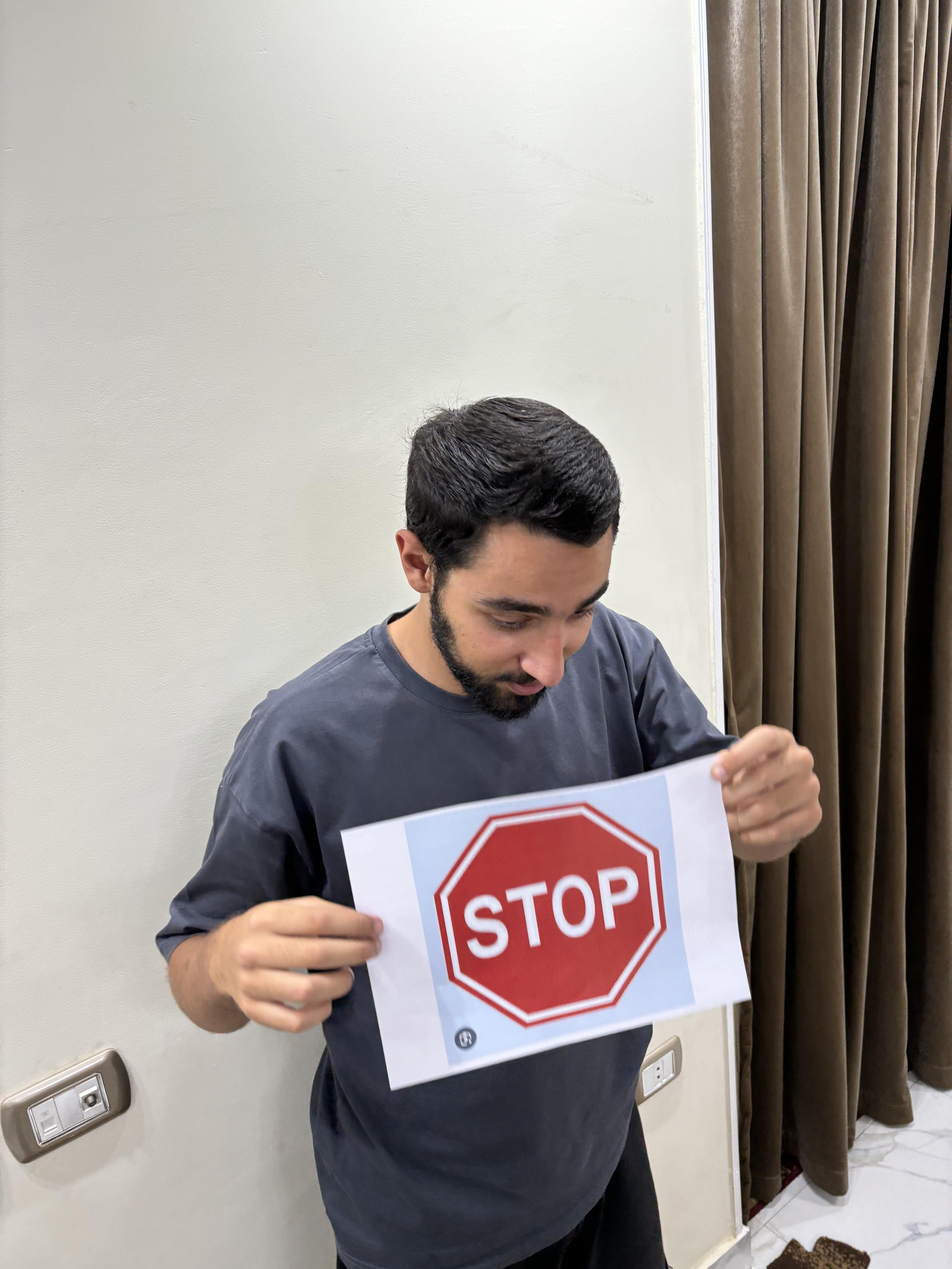Stop: (433, 801, 677, 1029)
